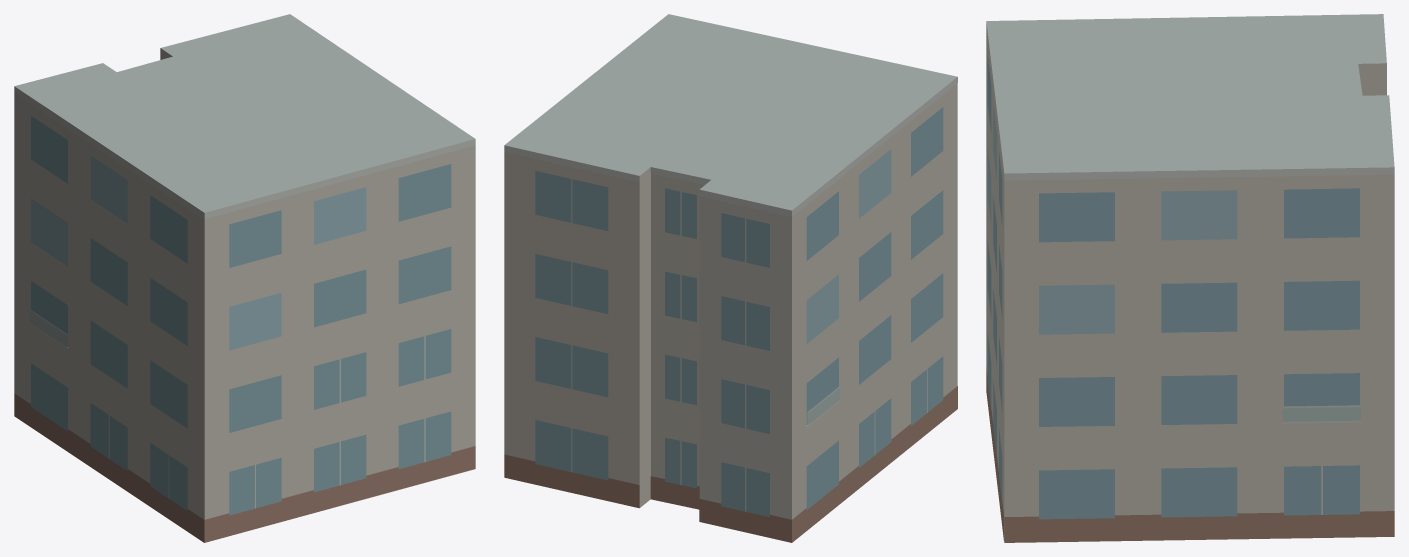
The model's file is survey-upis-33036503.glb.
The picture shows the model from 3 angles, left to right: view 1: azimuth 30°, elevation 25°; view 2: azimuth 150°, elevation 25°; view 3: azimuth 270°, elevation 25°; orthographic projection. The views are drawn at different scales.
Parts seen in each view (by area): view 1: survey-upis-33036503.tmp; view 2: survey-upis-33036503.tmp; view 3: survey-upis-33036503.tmp.
Boxes of the visible parts, x1,y1,x2,y2 form: survey-upis-33036503.tmp: [14, 14, 475, 542]; survey-upis-33036503.tmp: [504, 14, 957, 542]; survey-upis-33036503.tmp: [986, 14, 1394, 542].
Bounding box in the file's own units: 11.68 × 12.6 × 12.63.
